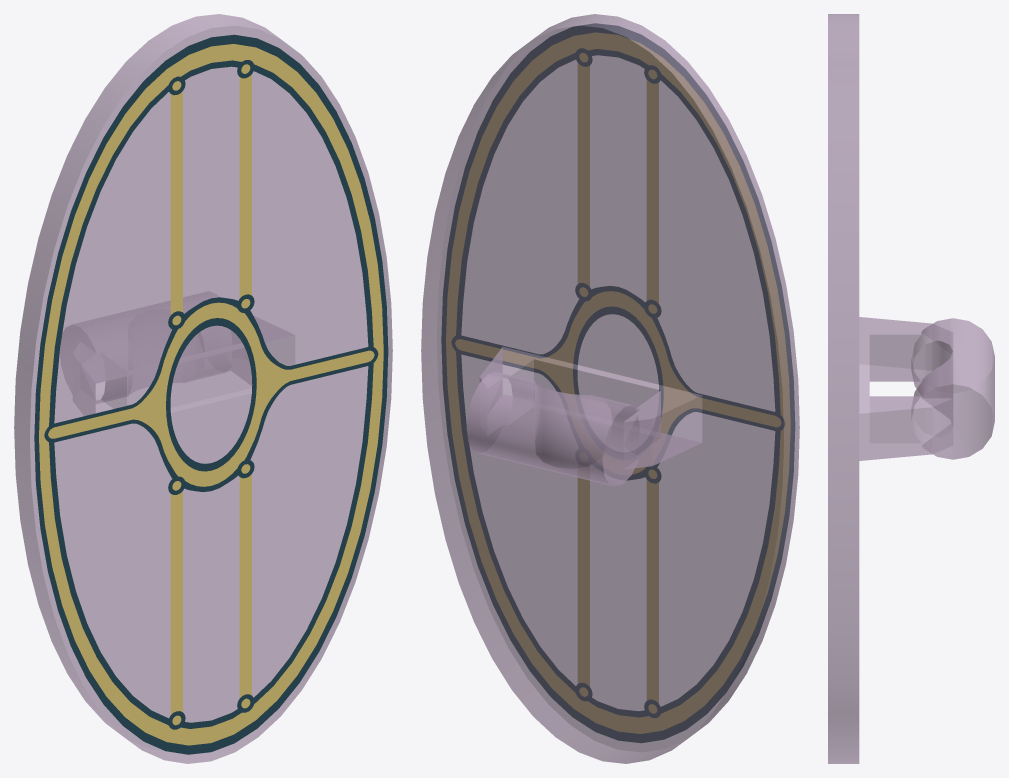
Rendered from Gungan Patrol sheild.dae.
The picture shows the model from 3 angles, left to right: view 1: azimuth 30°, elevation 25°; view 2: azimuth 150°, elevation 25°; view 3: azimuth 270°, elevation 25°; orthographic projection.
Parts seen in each view (by area): view 1: Object; view 2: Object; view 3: Object.
Part boxes in pixels (x1,y1,x2,y2): Object: (14, 14, 392, 763); Object: (421, 14, 799, 763); Object: (828, 14, 994, 763).
Bounding box in the file's own units: 16 × 6.4 × 30.88.
